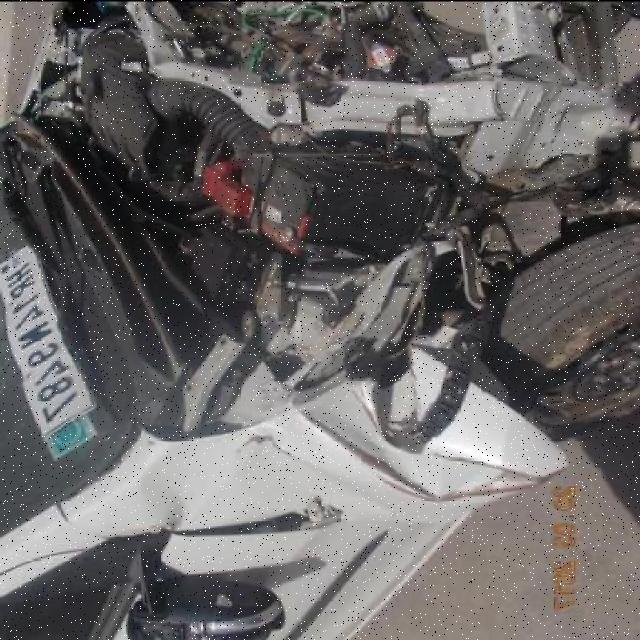damage: (8, 3, 628, 512), (176, 484, 354, 540)
